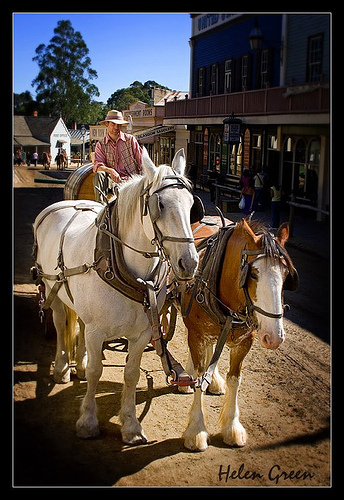horse: (32, 149, 198, 446), (178, 213, 299, 452)
